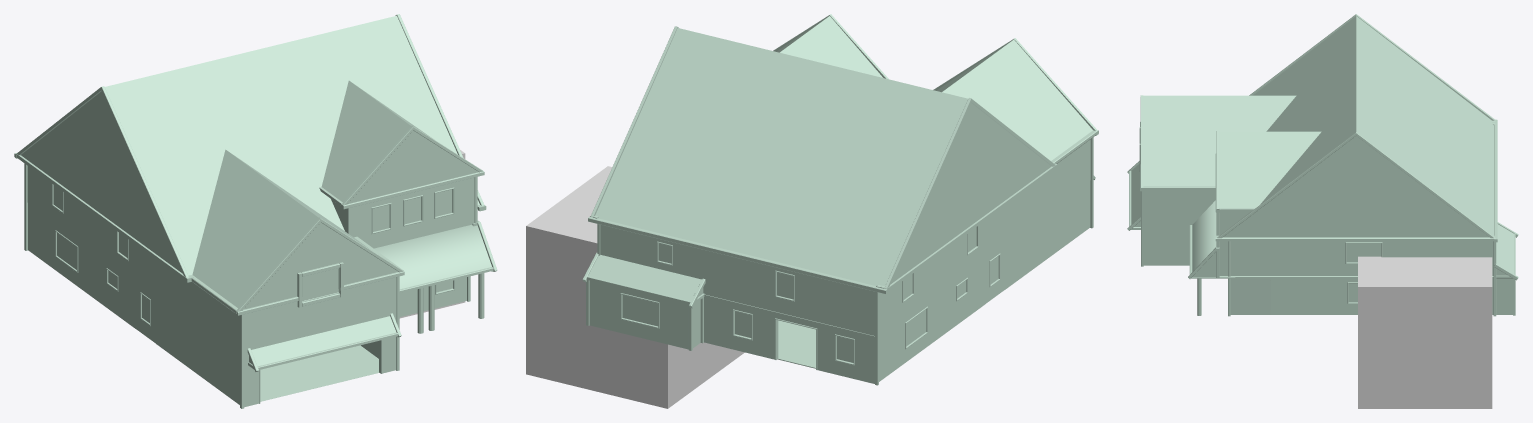
File: House_SIM_update.fbx
The picture shows the model from 3 angles, left to right: view 1: azimuth 30°, elevation 25°; view 2: azimuth 150°, elevation 25°; view 3: azimuth 270°, elevation 25°; orthographic projection. The views are drawn at different scales.
Visible parts, largest first — view 1: House_Mesh.001; view 2: House_Mesh.001, Cube; view 3: House_Mesh.001, Cube.
Boxes of the visible parts, x1=… form: House_Mesh.001: x1=14, y1=14, x2=497, y2=408; House_Mesh.001: x1=582, y1=14, x2=1098, y2=385; Cube: x1=526, y1=166, x2=744, y2=408; House_Mesh.001: x1=1127, y1=14, x2=1518, y2=316; Cube: x1=1358, y1=256, x2=1492, y2=408.
Size of the model in its own units: 512 by 409 by 581.
